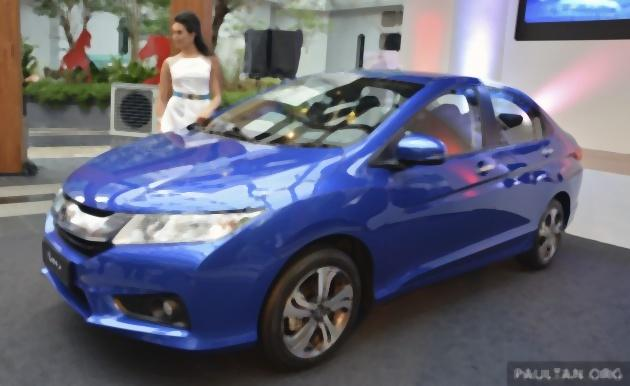Car hood: (59, 123, 345, 214)
Fender - -F-L-: (238, 152, 392, 308)
Fender - -R-L-: (537, 142, 582, 220)
Front bumper: (29, 226, 274, 356)
Headlight - -L-: (110, 206, 267, 248)
Headlight - -R-: (45, 182, 74, 228)
Passenger-s door - -F-L-: (391, 74, 498, 289)
Passenger-s door - -R-L-: (491, 86, 563, 251)
Rear bumper: (562, 191, 593, 240)
Rear light - -L-: (559, 131, 589, 167)
Side bumper - -L-: (368, 226, 545, 312)
Side mirror - -L-: (388, 128, 450, 168)
